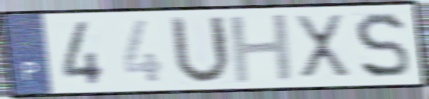4: (60, 18, 106, 88), (121, 17, 166, 86)
H: (226, 11, 298, 87)
S: (352, 10, 413, 81)
U: (167, 14, 235, 87)
X: (292, 12, 355, 81)
